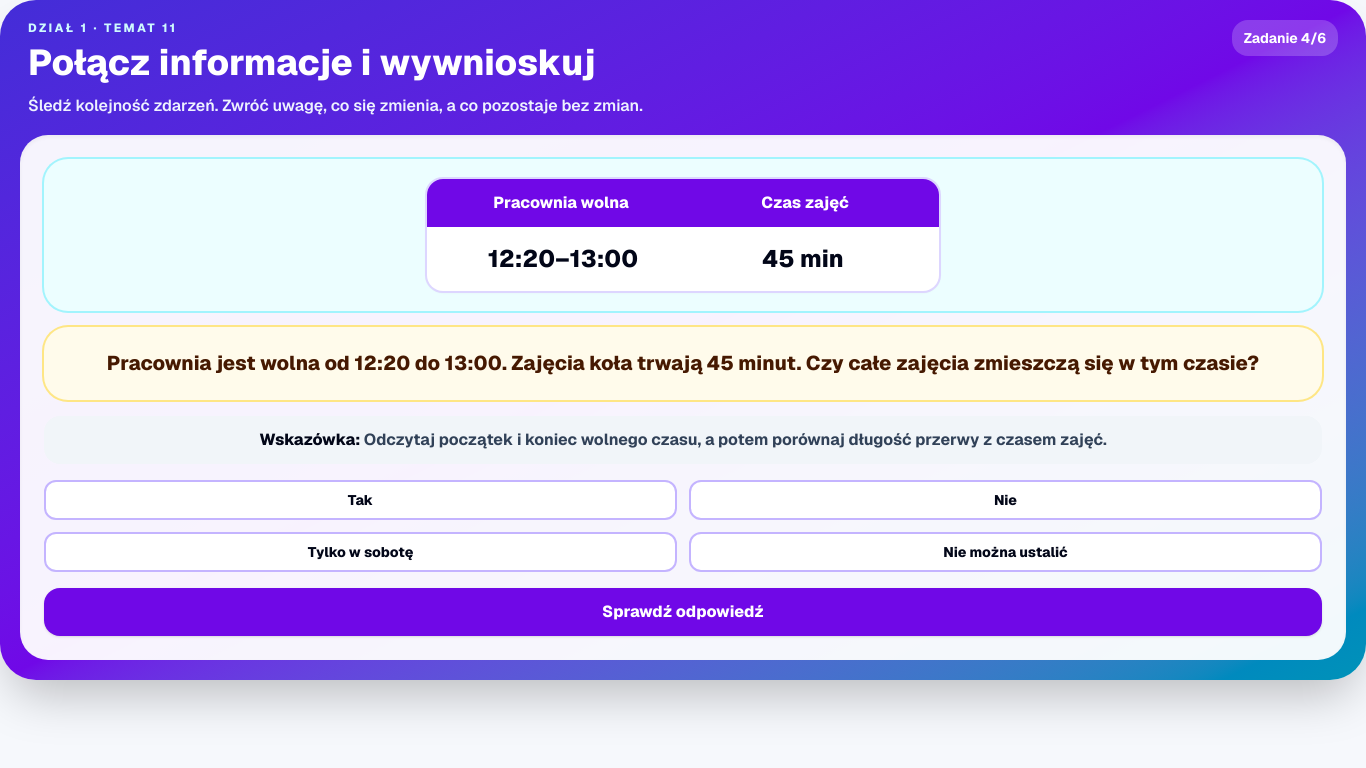
Grade4ReadingInformationTwoLessonLab › nie przyjmuje pustej odpowiedzi
The image size is (1366, 768).
Click the button "Sprawdź odpowiedź" at (683, 612), box [44,588,1322,636]
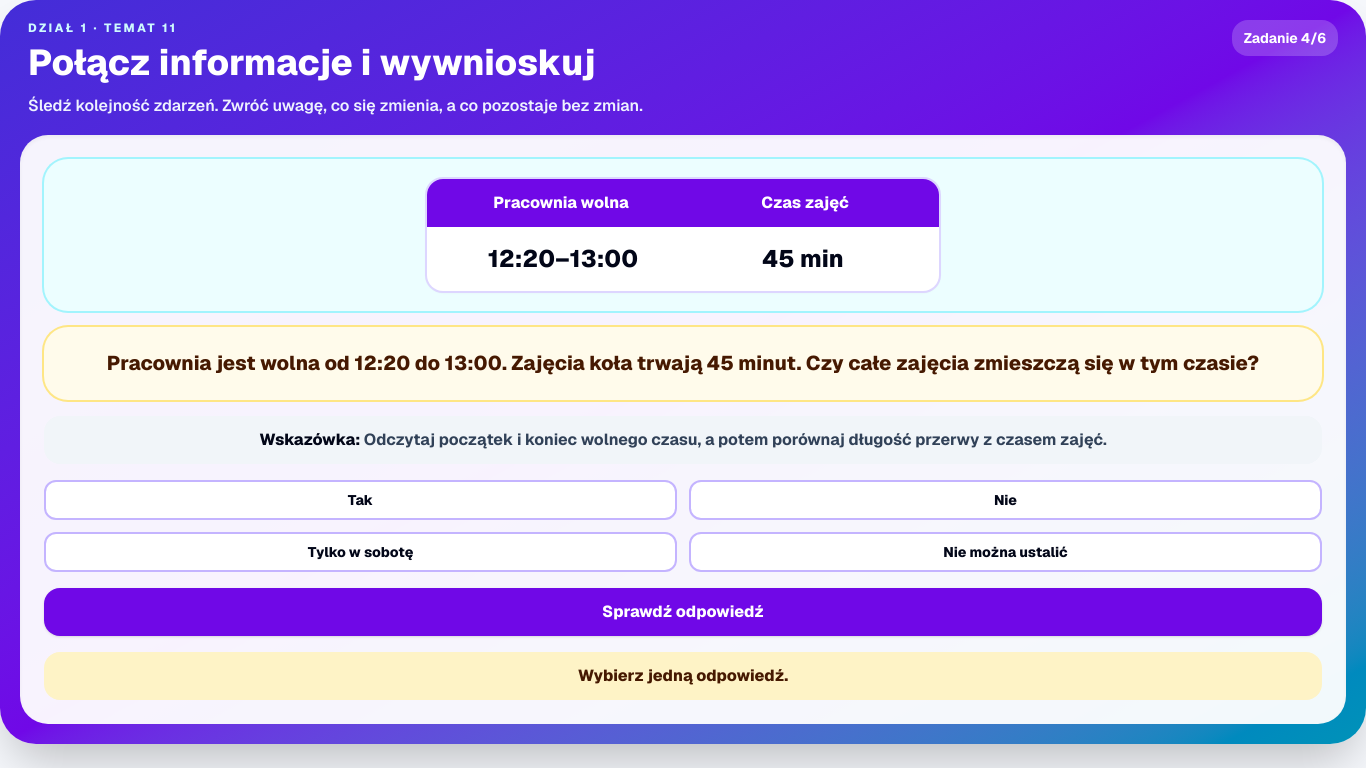
Result: the message reads "Wybierz jedną odpowiedź." at [578,664,788,686]
